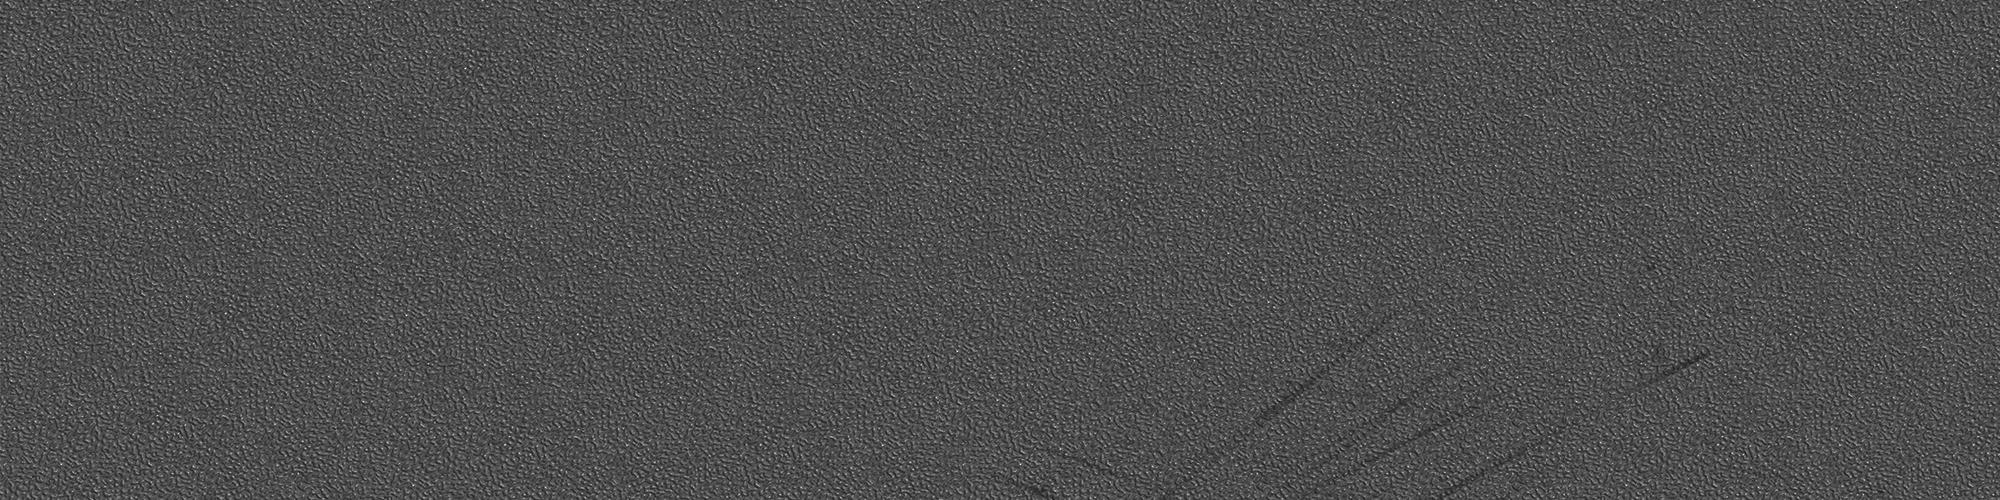Scratches: (1148, 307, 1403, 500), (1263, 353, 1495, 500), (1430, 418, 1577, 500), (987, 441, 1142, 499), (1611, 341, 1718, 407), (1639, 249, 1677, 277)
